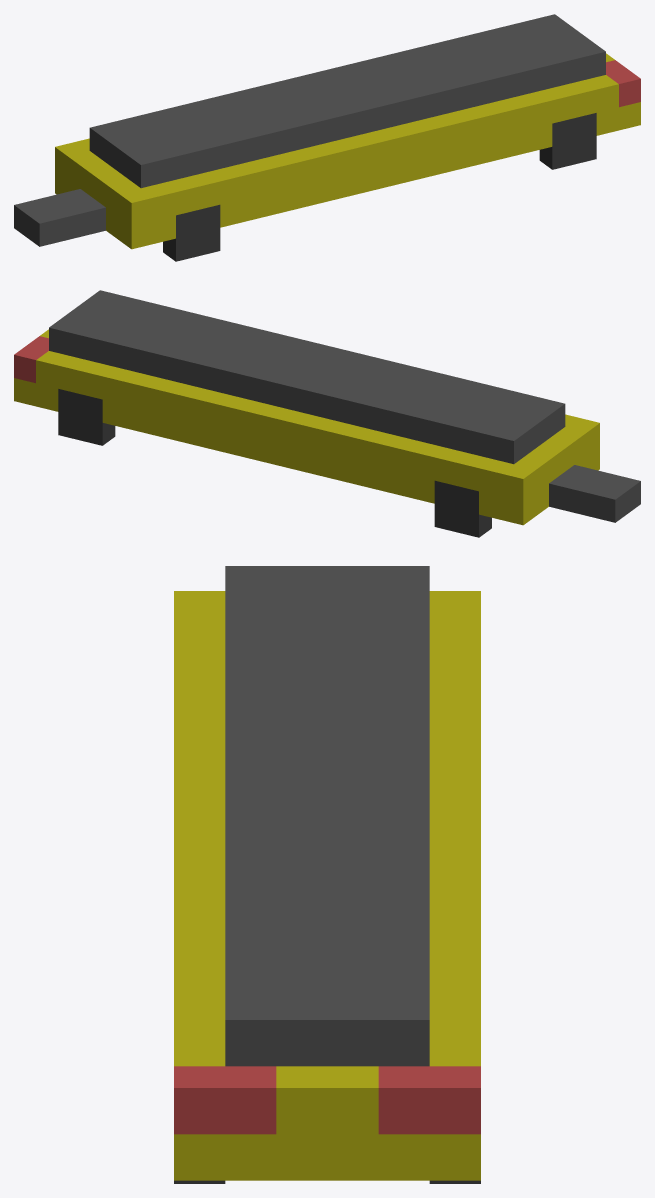
File: truck-trailer-v2-yellow.gltf
3 views of the same model, one above another, from view 1: azimuth 30°, elevation 25°; view 2: azimuth 150°, elevation 25°; view 3: azimuth 270°, elevation 25° (orthographic). The views are drawn at different scales.
Parts seen in each view (by area): view 1: model, wheels; view 2: model, wheels; view 3: model.
Part boxes in pixels (bbox=[...]): model: bbox=[14, 14, 640, 249]; wheels: bbox=[163, 113, 596, 261]; model: bbox=[14, 290, 640, 525]; wheels: bbox=[58, 389, 491, 537]; model: bbox=[174, 566, 480, 1180].
Bounding box in the file's own units: 2.6 × 0.4 × 0.6.
Materials: 2 (2 with a texture image).
